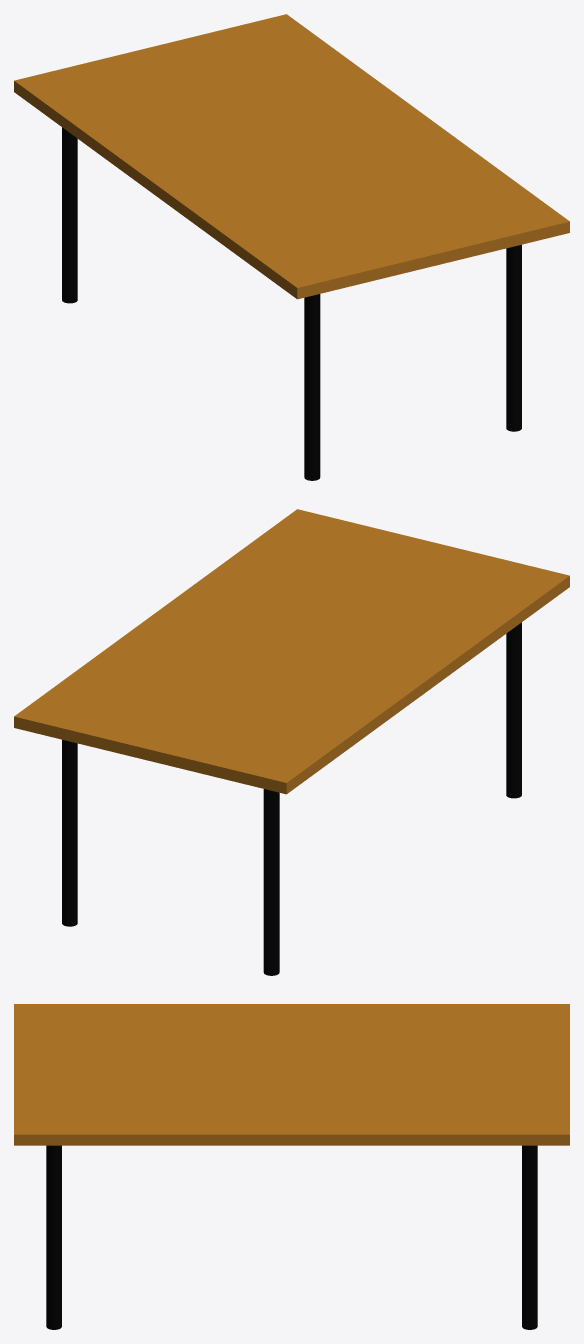
Rendered from table_1.dae.
The picture shows the model from 3 angles, top to bottom: view 1: azimuth 30°, elevation 25°; view 2: azimuth 150°, elevation 25°; view 3: azimuth 270°, elevation 25°; orthographic projection.
Parts seen in each view (by area): view 1: Cube; view 2: Cube; view 3: Cube.
Boxes of the visible parts, x1,y1,x2,y2 form: Cube: (14, 14, 569, 480); Cube: (14, 509, 569, 975); Cube: (14, 1004, 569, 1329).
Bounding box in the file's own units: 1 × 1.8 × 0.747.
